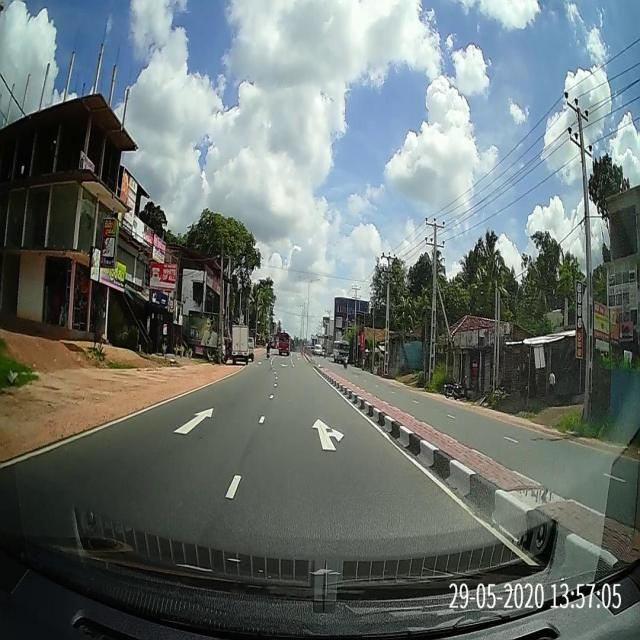Strelka vpered: (170, 406, 214, 436)
Strelka vpered - vpravo: (310, 416, 346, 452)
